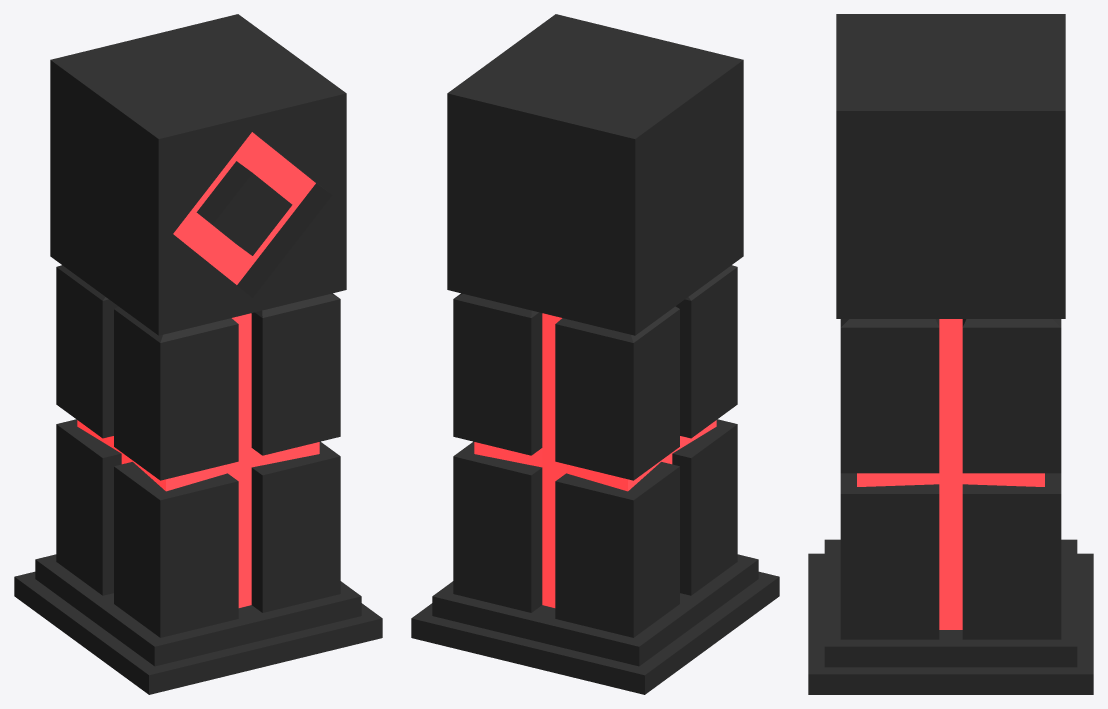
The model's file is observador.glb.
3 views of the same model, side by side, from view 1: azimuth 30°, elevation 25°; view 2: azimuth 150°, elevation 25°; view 3: azimuth 270°, elevation 25° (orthographic). The views are drawn at different scales.
Visible parts, largest first — view 1: Cube; view 2: Cube; view 3: Cube.
Boxes of the visible parts, x1,y1,x2,y2 form: Cube: [14, 14, 382, 694]; Cube: [411, 14, 779, 694]; Cube: [808, 14, 1093, 694].
Size of the model in its own units: 2.49 by 5.5 by 2.49.
